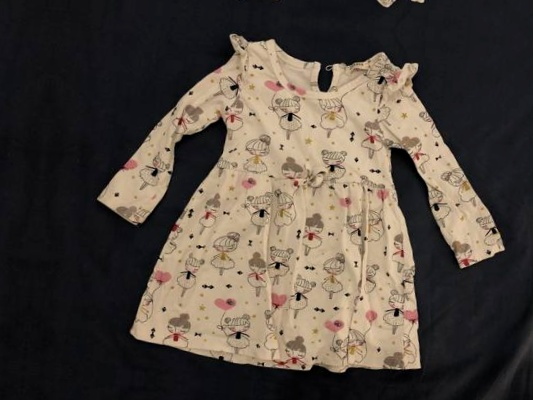Dress: (95, 13, 533, 400), (129, 0, 533, 36), (60, 388, 503, 400)
